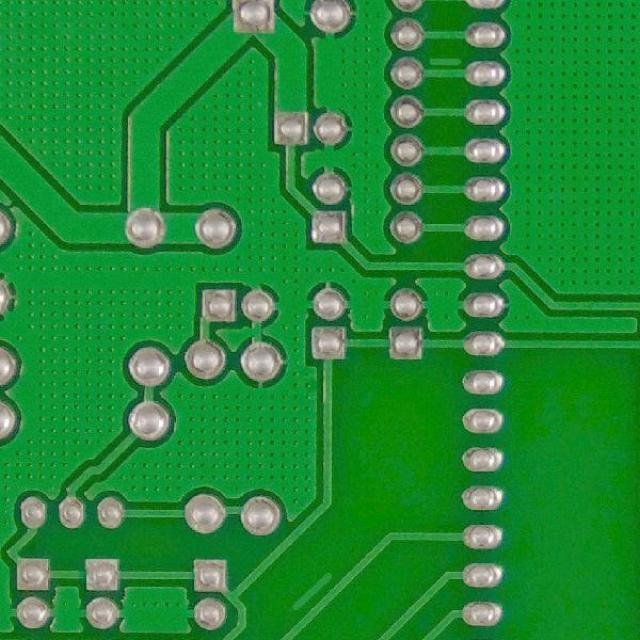Spurious_Cooper: (286, 565, 344, 617), (427, 54, 465, 68)
